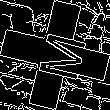M_W: (25, 27, 85, 83)
